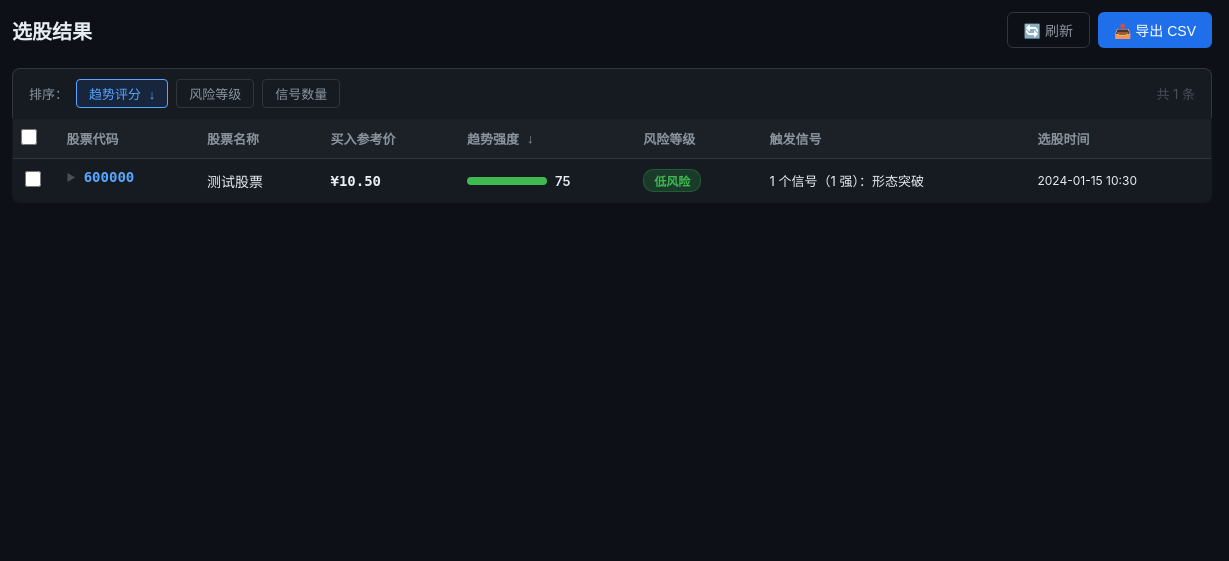
it: ScreenerResultsView - 信号标签增强 › 新鲜度徽章显示/隐藏逻辑 › freshness 为 NEW 时，显示"新"徽章
Step 1. Click the row with class "result-row" → click(612, 180), box [12,158,1212,202]
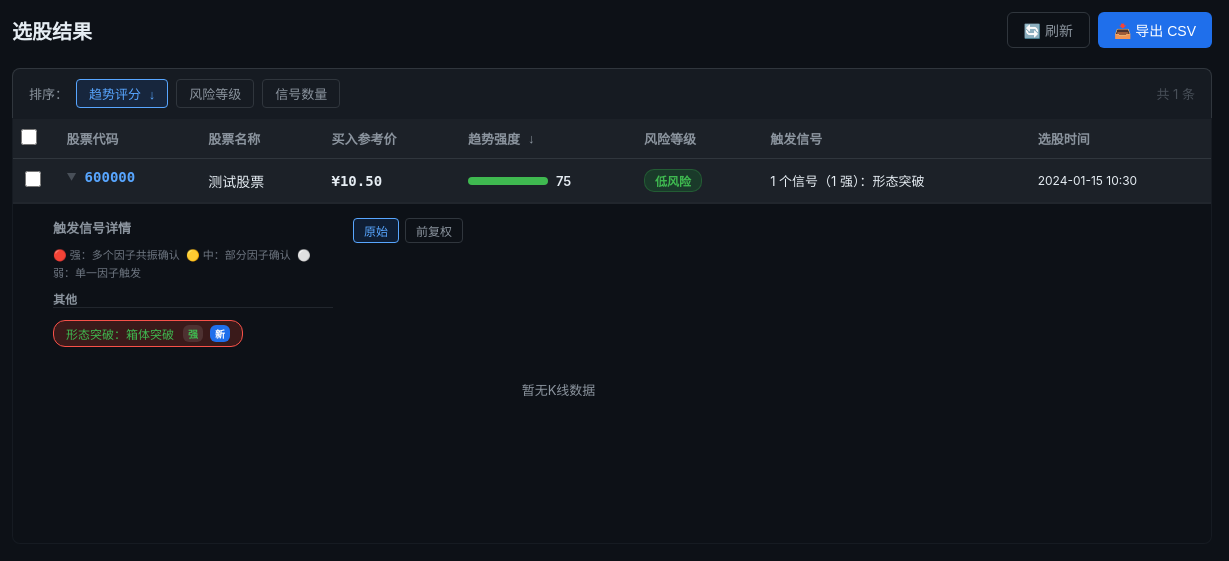
Result: the text "新" is shown at [210,325,230,342]
Result: the text with class "freshness-badge" reads "新" at [215,328,225,340]
